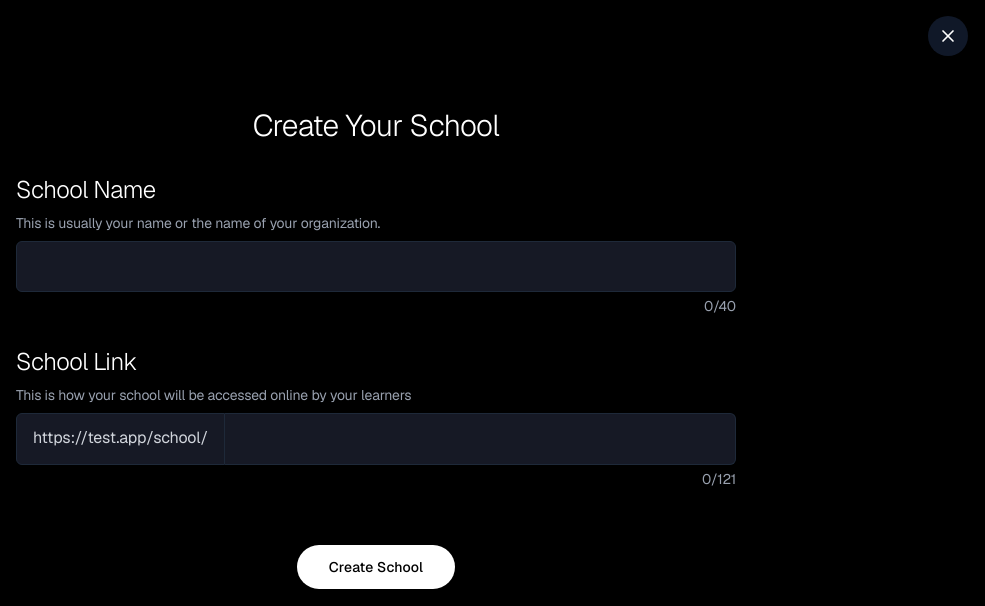
Test case: CreateSchool Page › Form Input Handling › should update school name input and character count
The image size is (985, 606).
Type "Test School" into the 1st field at (376, 267), box [16, 241, 736, 292]
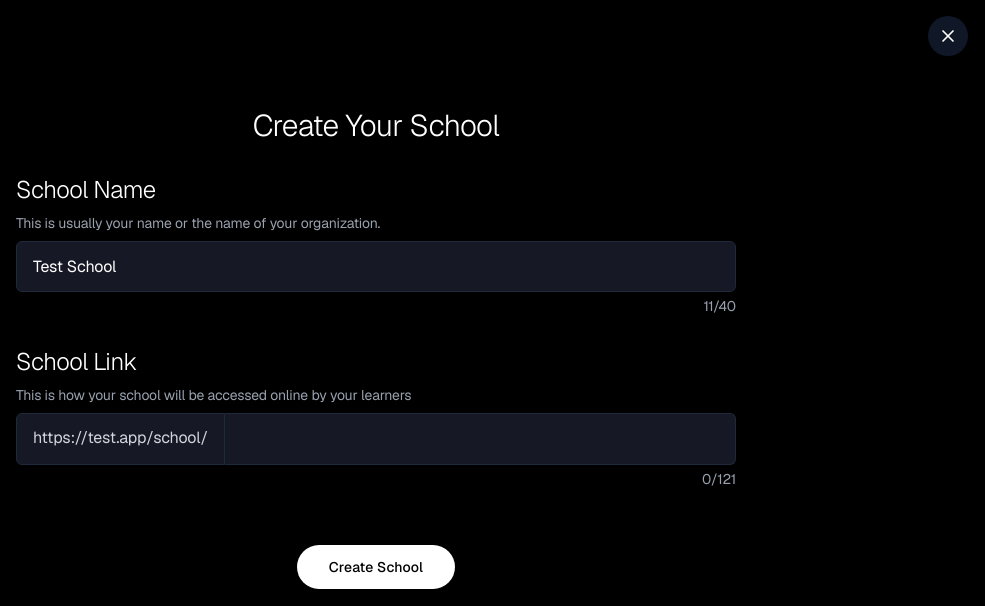
Result: the text "11/40" is shown at [704, 297, 736, 315]
